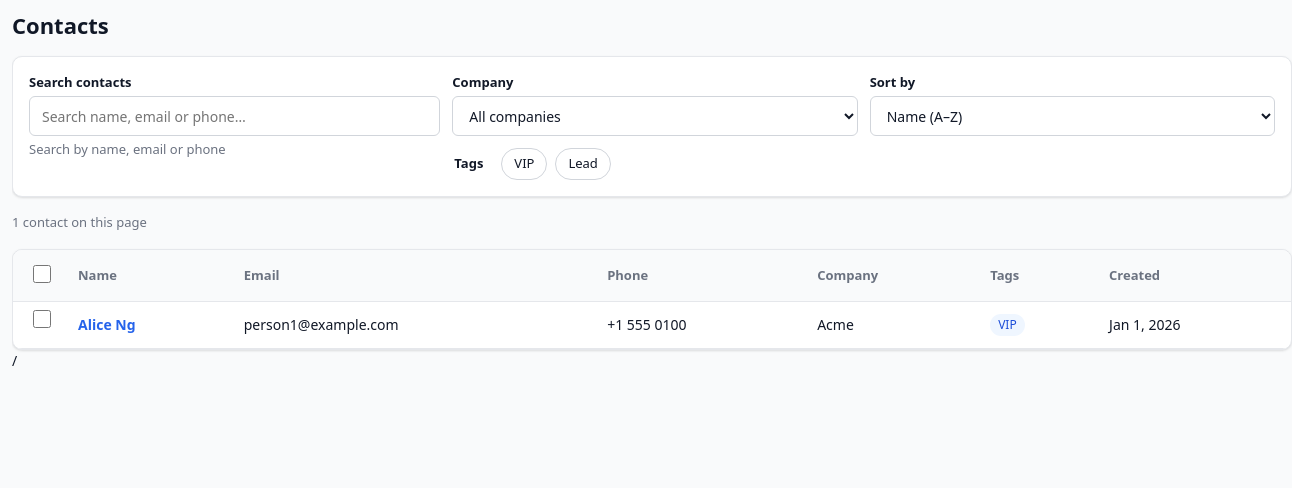
Test: ContactsPage › requires a tag name before bulk-assigning
Click the checkbox named "Select Alice Ng".
click(42, 318)  # box [33,310,51,328]
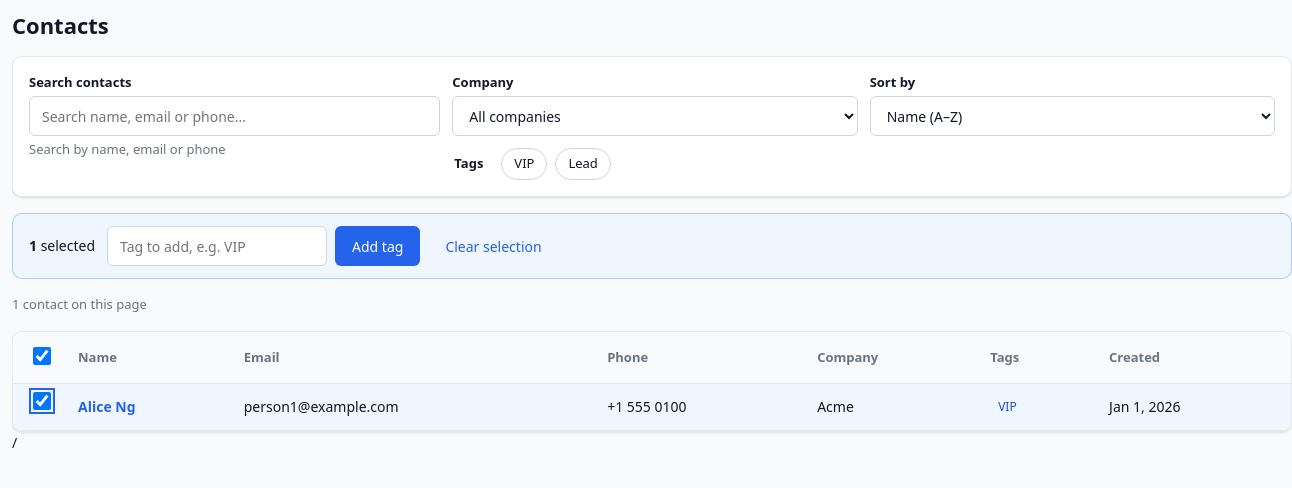
Click the button "Add tag".
click(378, 246)  # box [335,226,420,266]
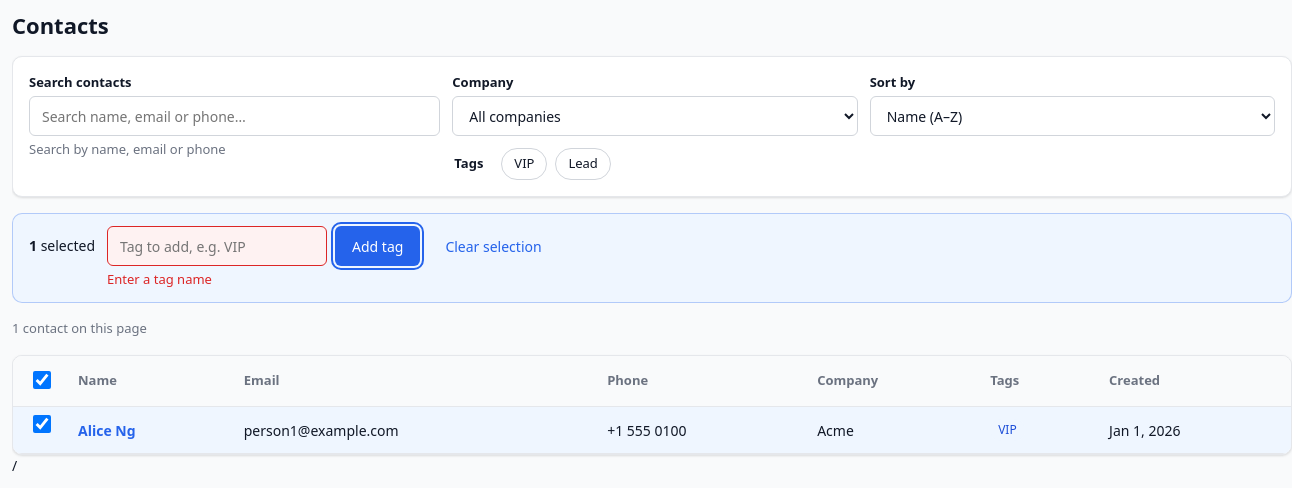
expect the text "Enter a tag name" is shown: met, box [107,270,212,288]
